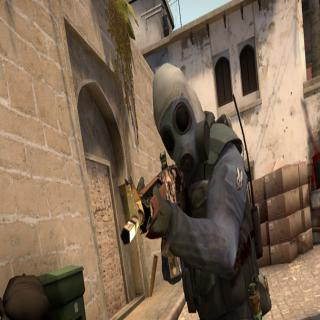CT-Body: (147, 58, 255, 319)
CT-Head: (152, 62, 209, 174)
